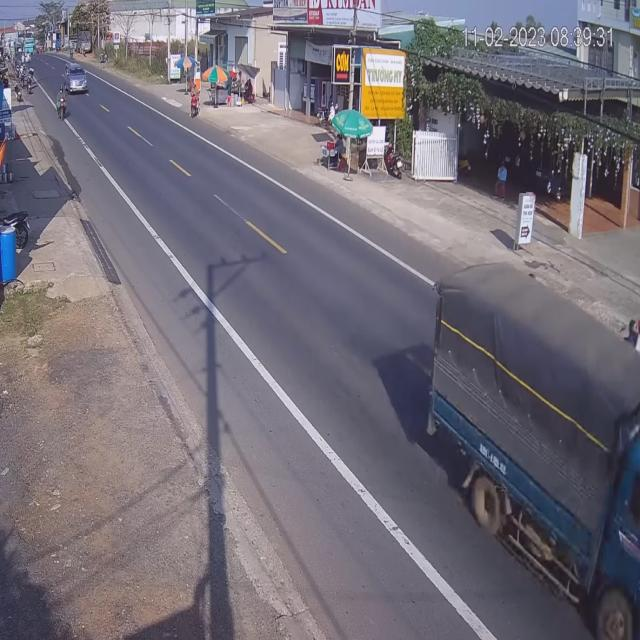car: (66, 62, 89, 96)
motorbike: (58, 86, 69, 122), (190, 88, 200, 119)
truck: (431, 257, 640, 638)
